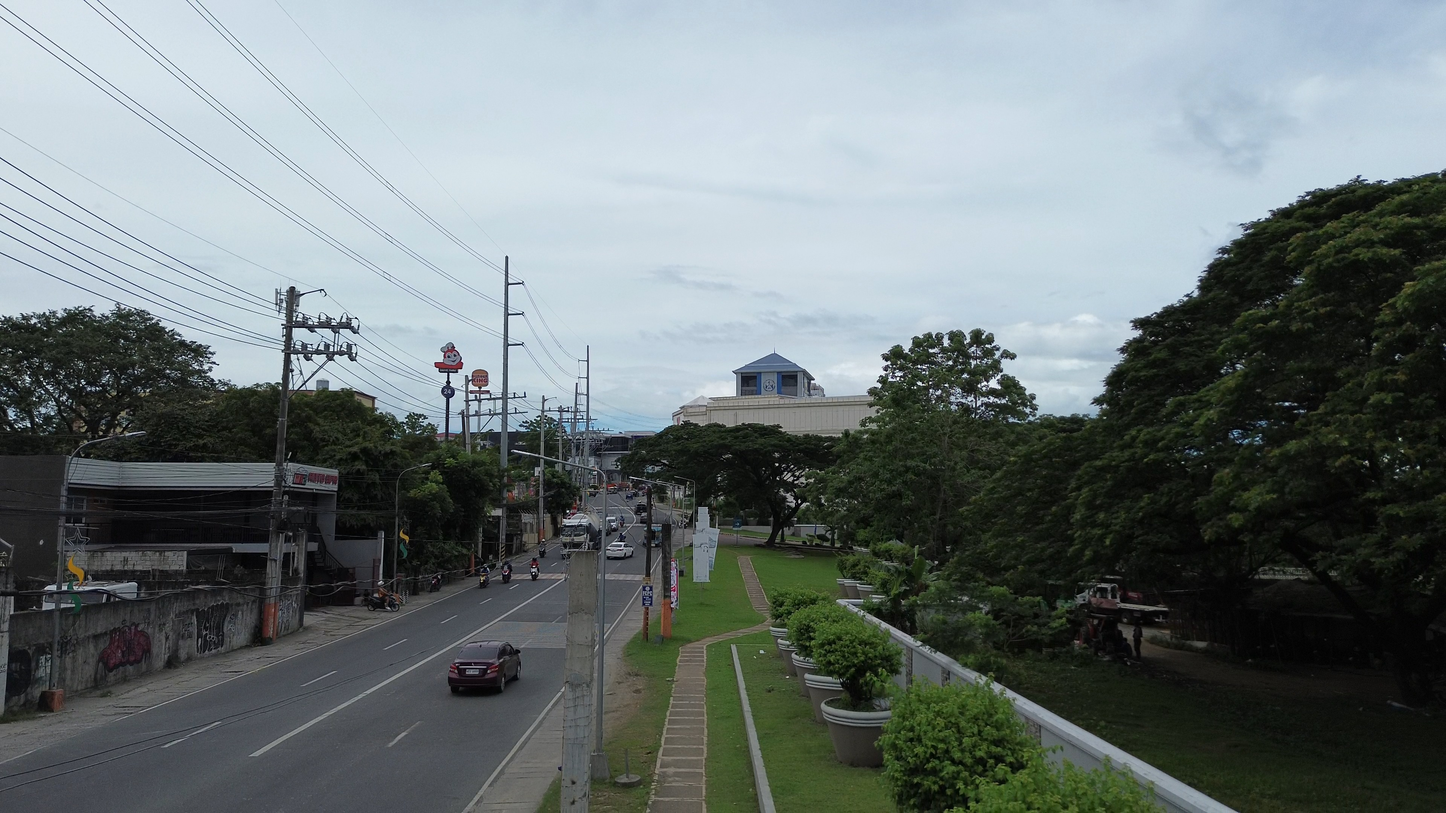car: (448, 641, 520, 693), (606, 540, 633, 558)
motorcycle: (365, 592, 400, 612), (479, 566, 490, 588), (429, 574, 442, 592), (529, 560, 540, 581), (501, 562, 511, 584)
vehicle: (1075, 581, 1168, 623), (559, 513, 600, 557), (365, 588, 400, 612), (479, 565, 490, 588), (501, 562, 512, 584), (429, 573, 442, 591), (529, 558, 539, 581), (606, 517, 618, 532)
